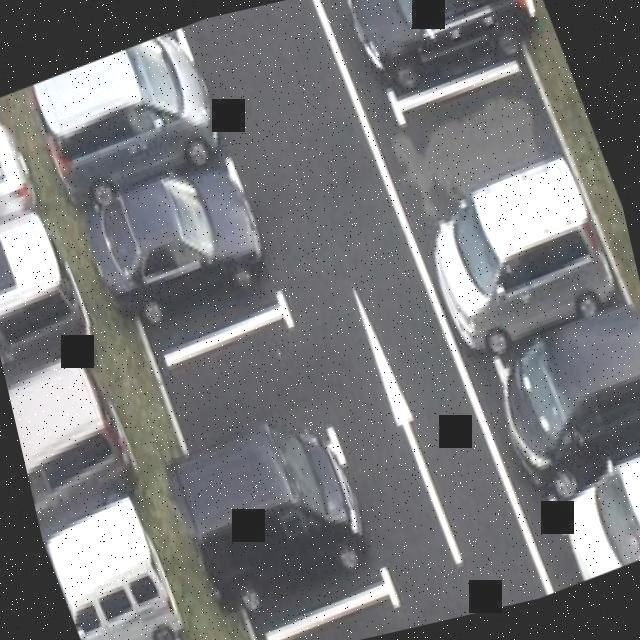car: (409, 166, 635, 368), (193, 445, 400, 640), (92, 160, 289, 357), (468, 315, 640, 508), (40, 24, 228, 195), (318, 0, 524, 111), (12, 388, 129, 548), (520, 453, 640, 591), (0, 249, 93, 408), (55, 539, 190, 640), (0, 126, 22, 256)
free: (148, 298, 350, 507), (360, 46, 574, 230), (249, 599, 415, 640)
